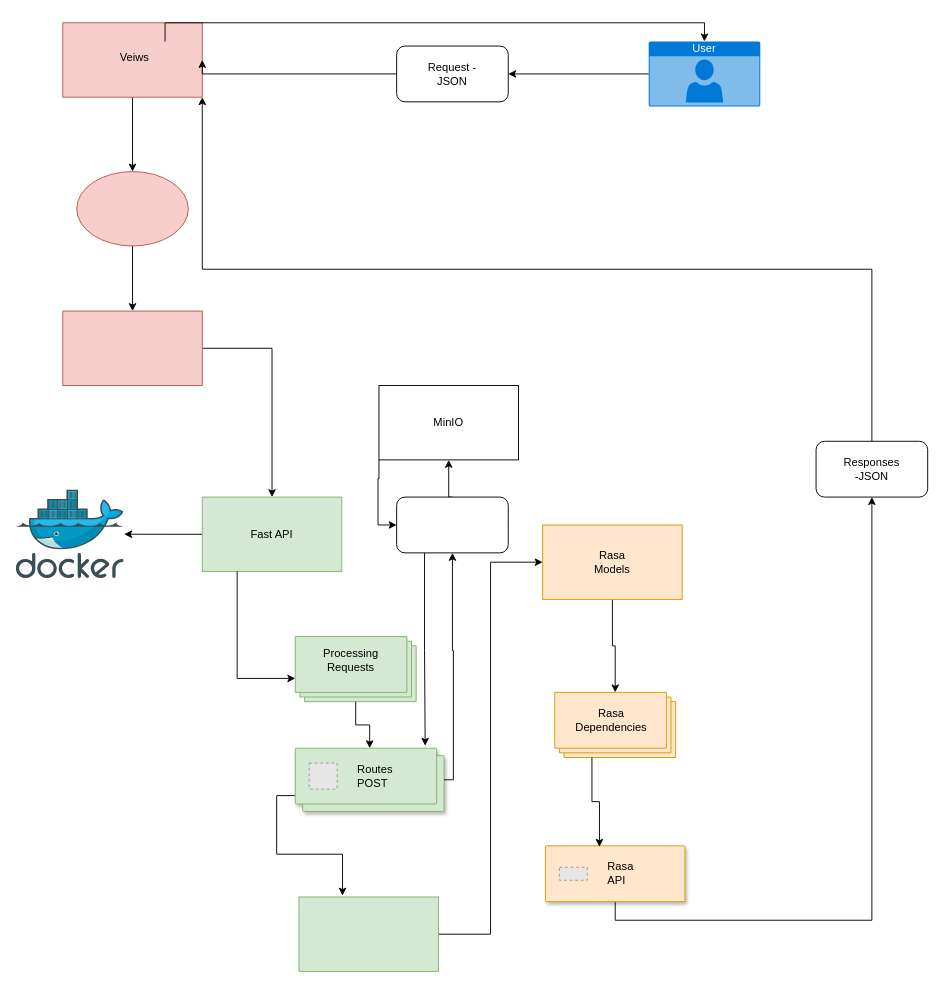
The diagram is 944 pixels wide and 988 high, and some of its shapes have lost their labels. Grey dashed boxes stand in for pictures. Here are the shapes that lost their labels. From the top down, the centre of each, then its label:
At (x=132, y=208): "Event Handlers".
At (x=132, y=347): "Interaction with the backend".
At (x=452, y=524): "Link ~Json".
At (x=368, y=933): "Interacting with Rasa Models".
